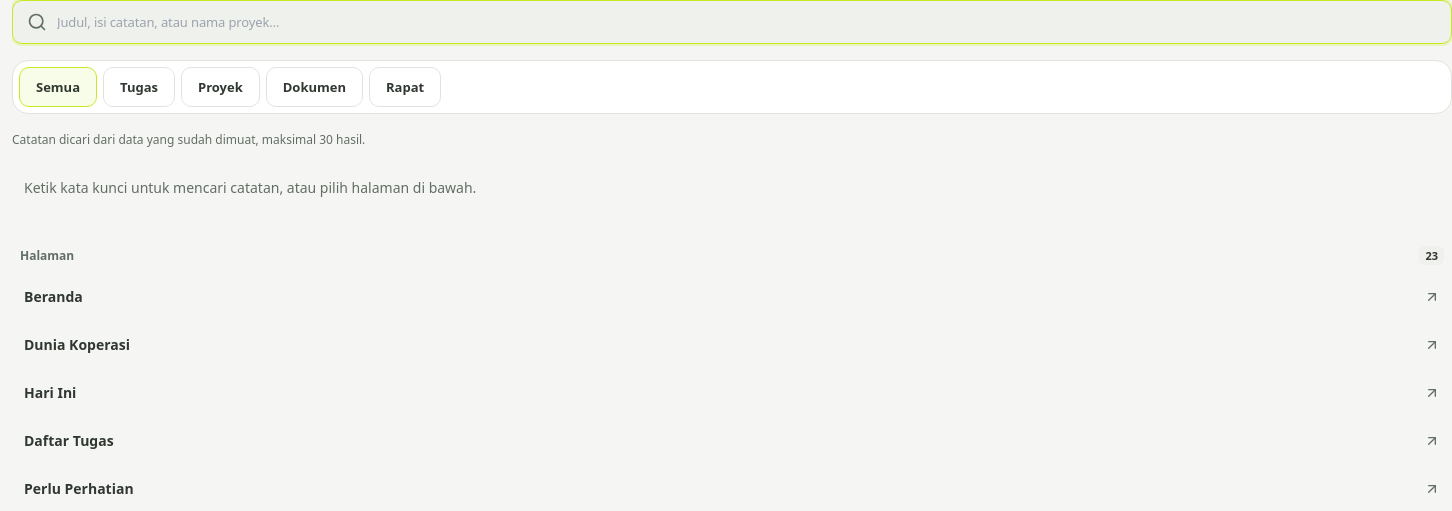
Test: search explains when records have not loaded
Type "proyek" into the search field.
click(747, 22); type("proyek")  # box [57,4,1437,40]
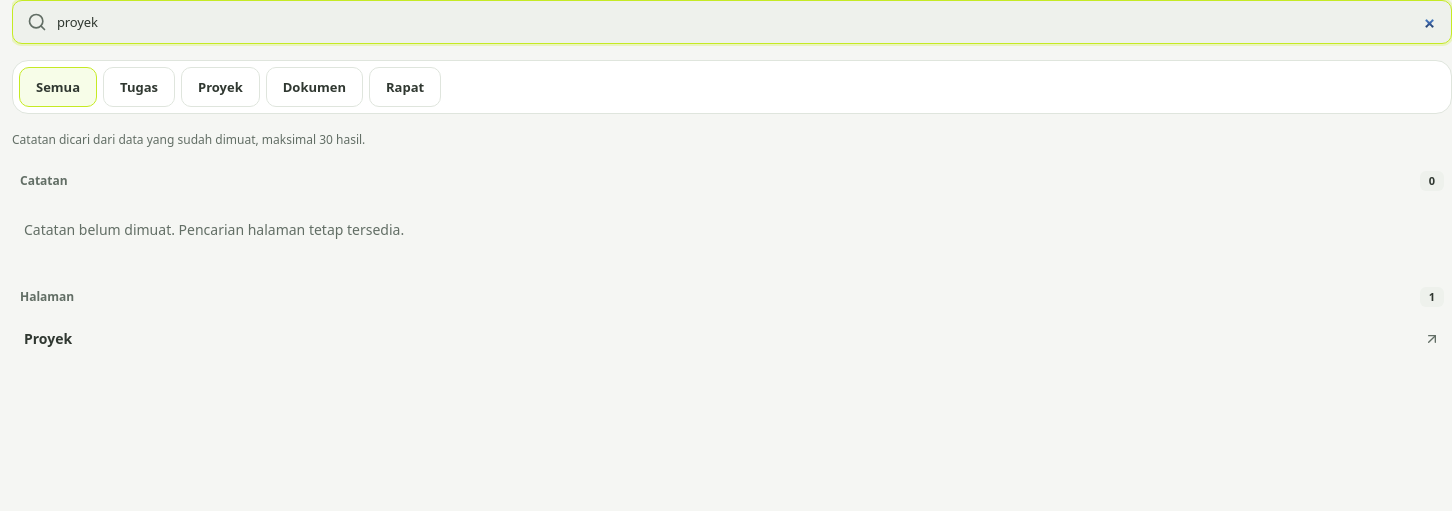
Expected: the text "Catatan belum dimuat. Pencarian halaman tetap tersedia." is shown, [24,220,404,239]
Expected: the link "Proyek" is shown, [24,329,1440,348]
